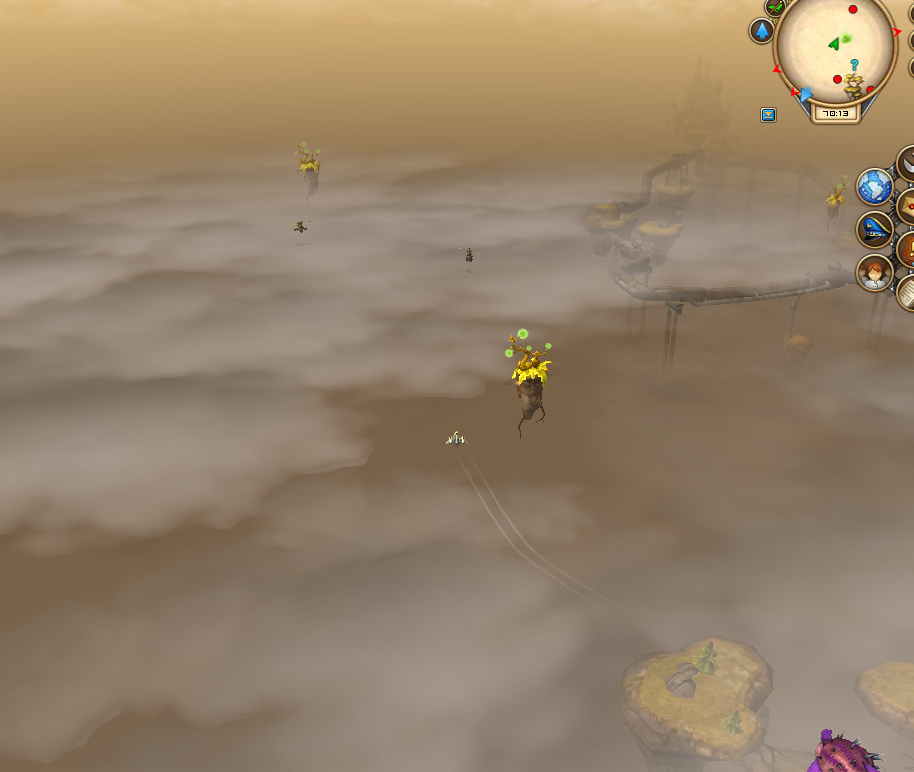dandelion-full: (500, 318, 556, 433), (292, 136, 325, 194), (822, 169, 852, 218)
